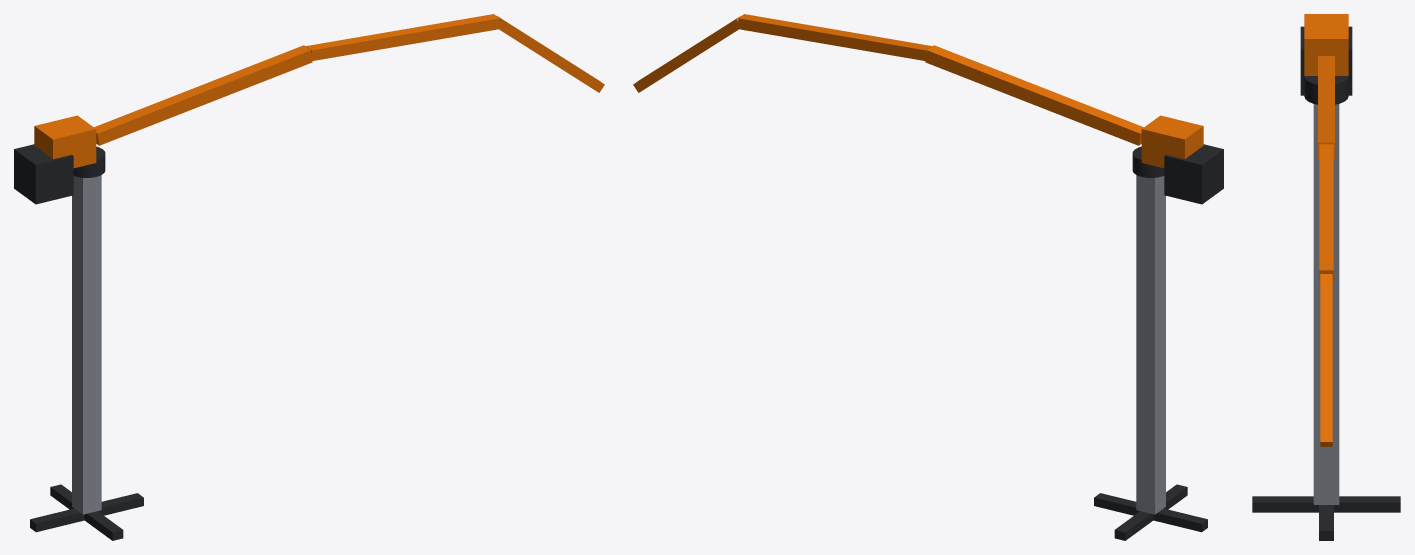
Rendered from concrete-placer-boom.glb.
The picture shows the model from 3 angles, left to right: view 1: azimuth 30°, elevation 25°; view 2: azimuth 150°, elevation 25°; view 3: azimuth 270°, elevation 25°; orthographic projection. The views are drawn at different scales.
Bounding box in the file's own units: 21.44 × 14.74 × 4.
